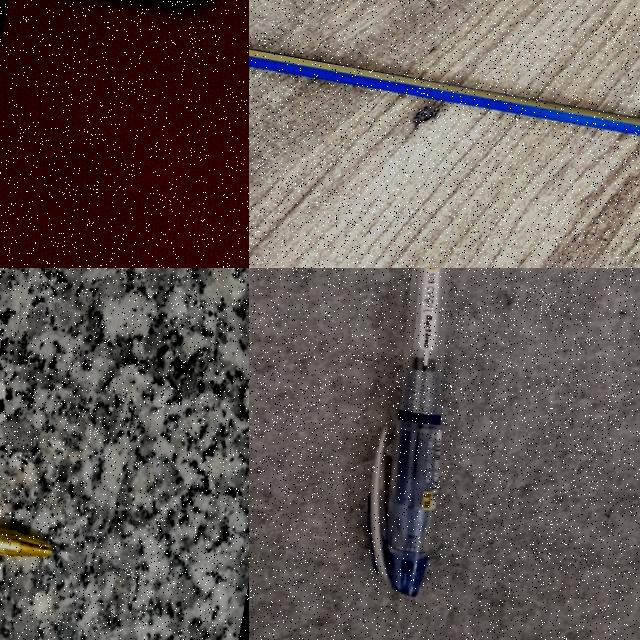pen: (249, 50, 639, 136), (368, 268, 447, 596)
signature pen: (0, 529, 51, 557)
